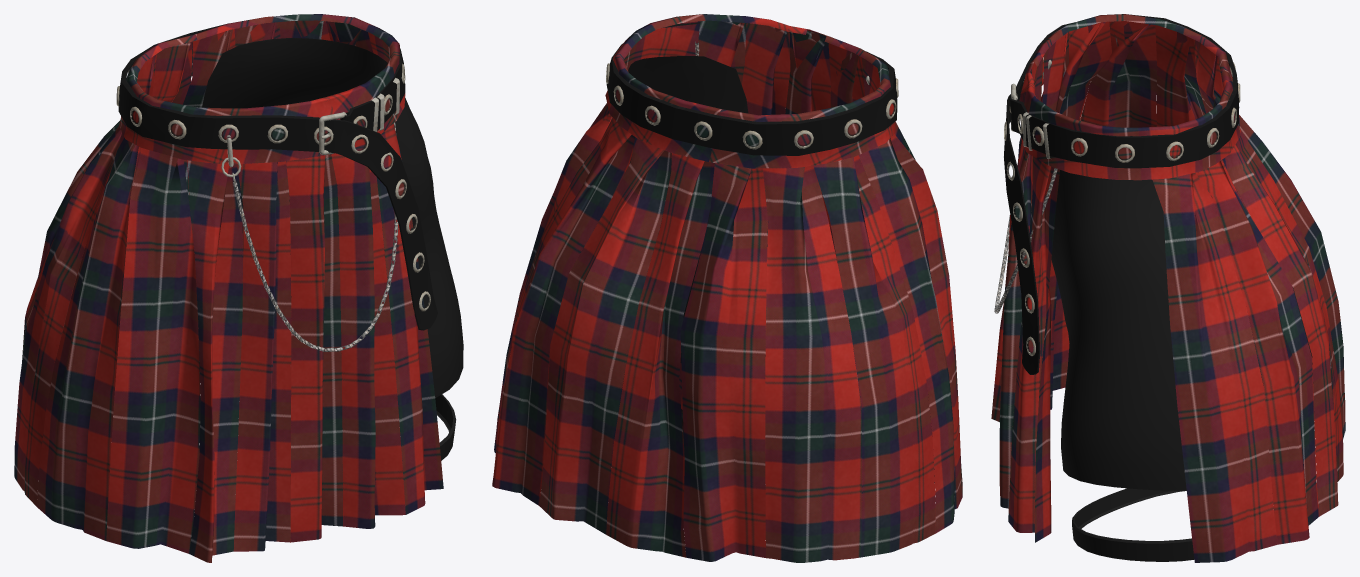
The model's file is plaid_gothic_mini_skirt.glb.
The picture shows the model from 3 angles, left to right: view 1: azimuth 30°, elevation 25°; view 2: azimuth 150°, elevation 25°; view 3: azimuth 270°, elevation 25°; orthographic projection. The views are drawn at different scales.
Visible parts, largest first — view 1: Object_2; view 2: Object_2; view 3: Object_2.
Part boxes in pixels (x1=…): Object_2: x1=14, y1=14, x2=463, y2=562; Object_2: x1=492, y1=14, x2=962, y2=562; Object_2: x1=991, y1=14, x2=1345, y2=562.
Size of the model in its own units: 30.5 by 30.09 by 23.26.
1 material, 1 textured.
